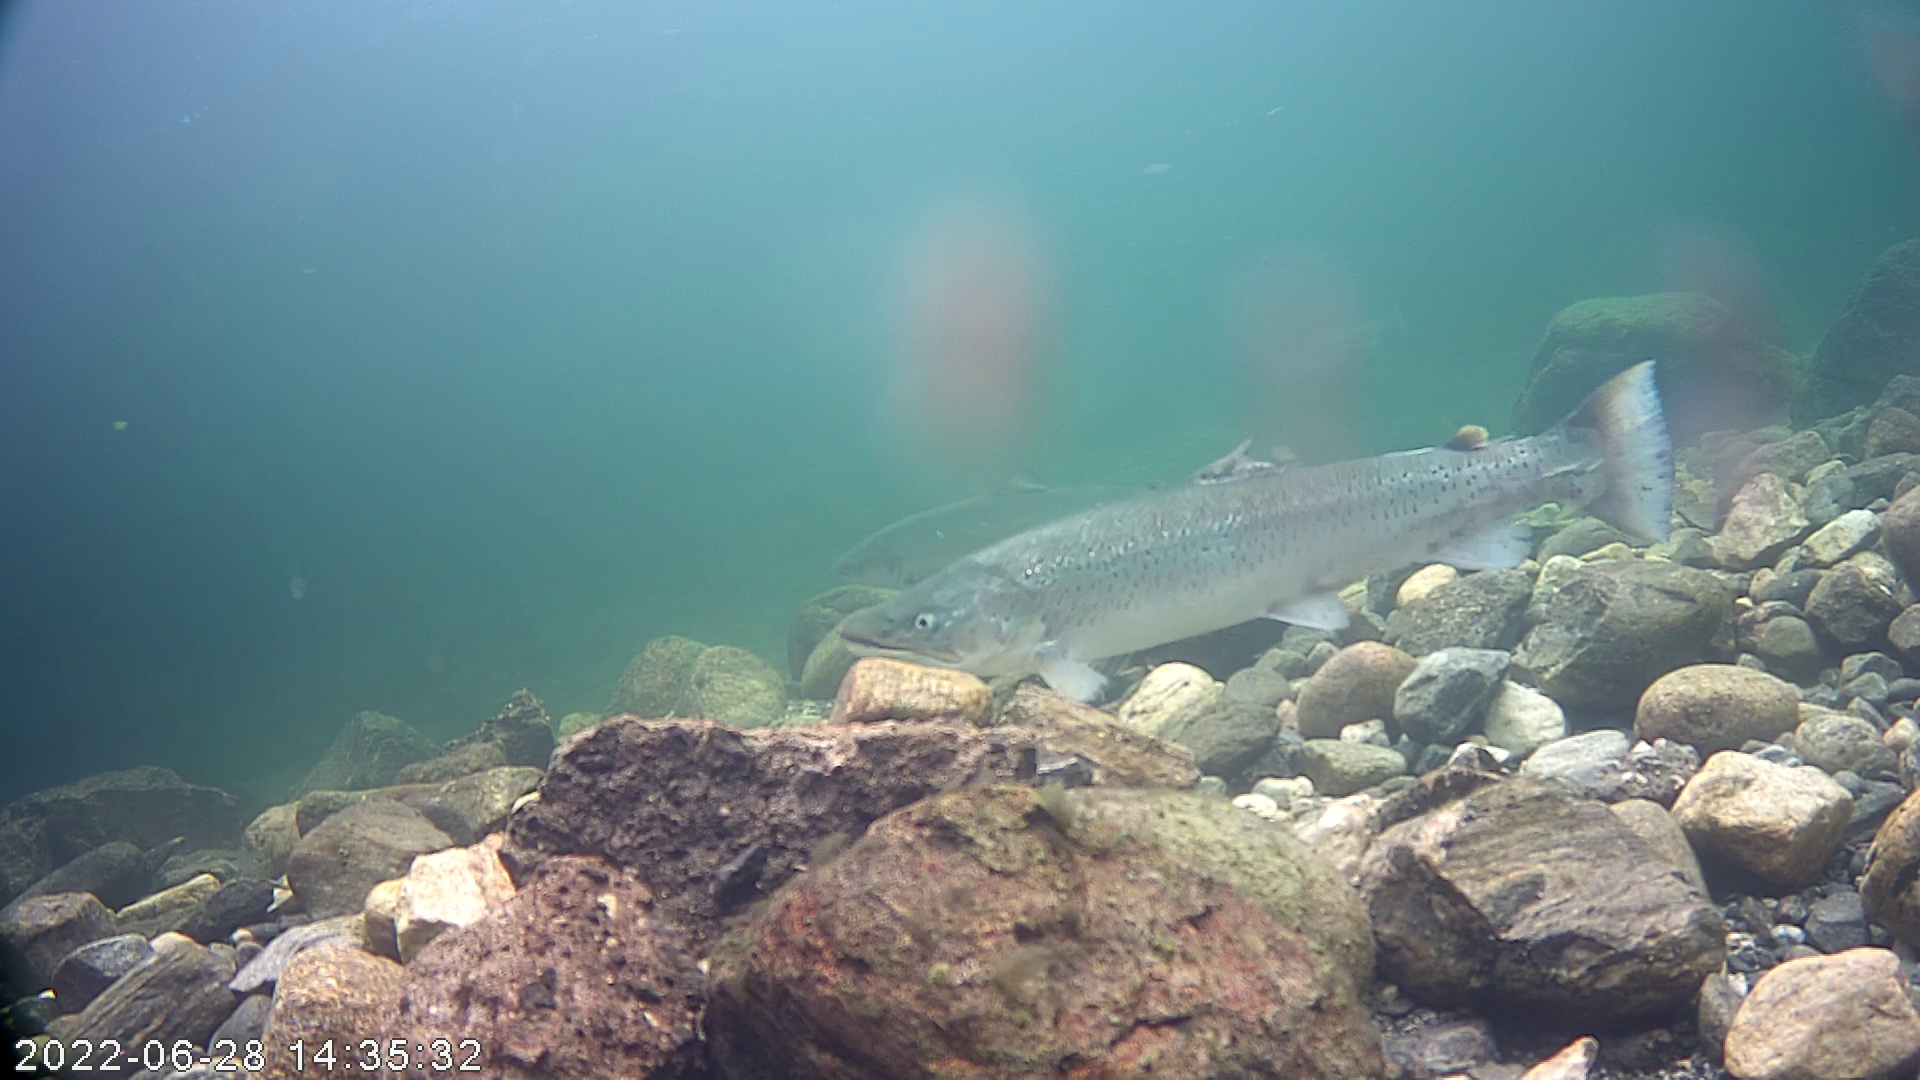salmon: (804, 272, 1706, 700)
